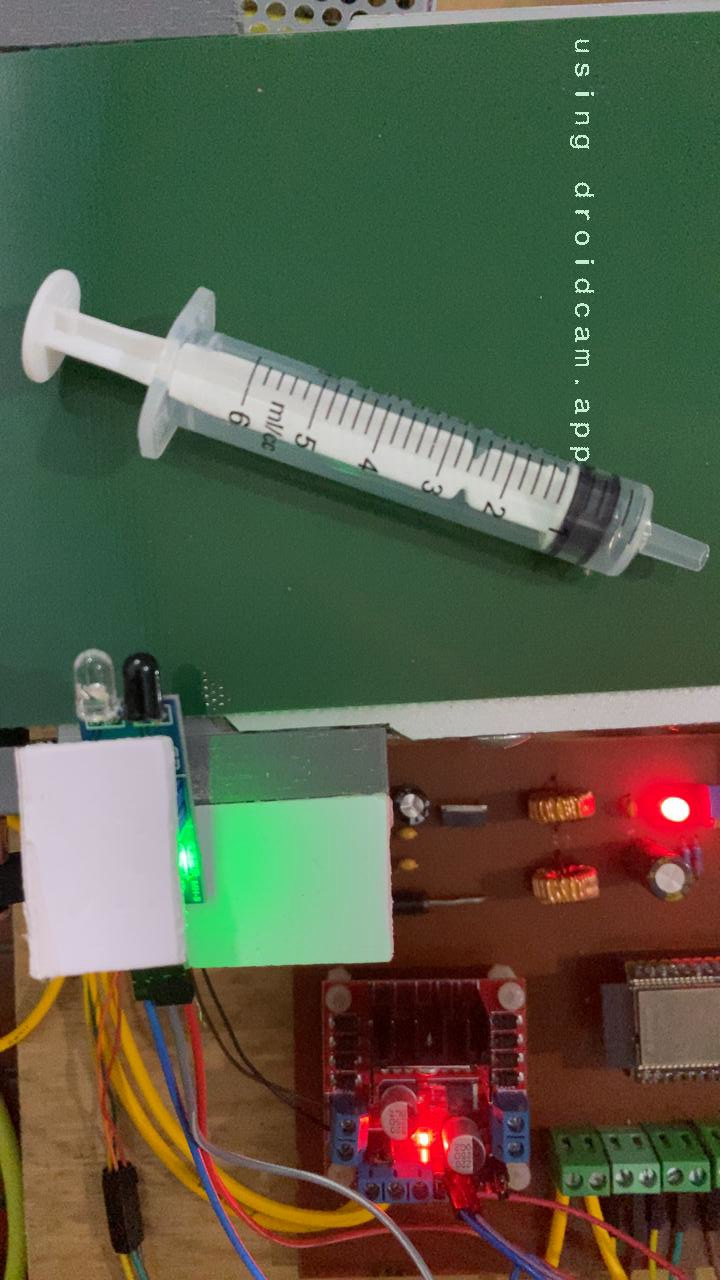syringe: (14, 262, 718, 585)
